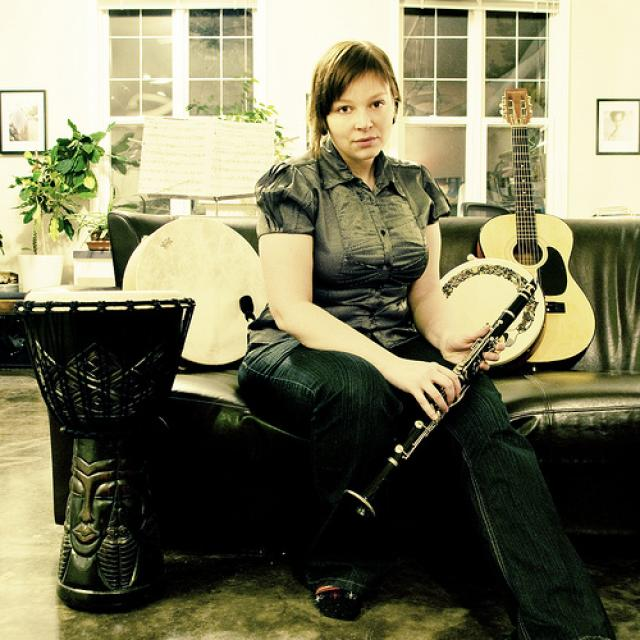clarinet: (342, 278, 539, 530)
guitar: (476, 84, 598, 370)
